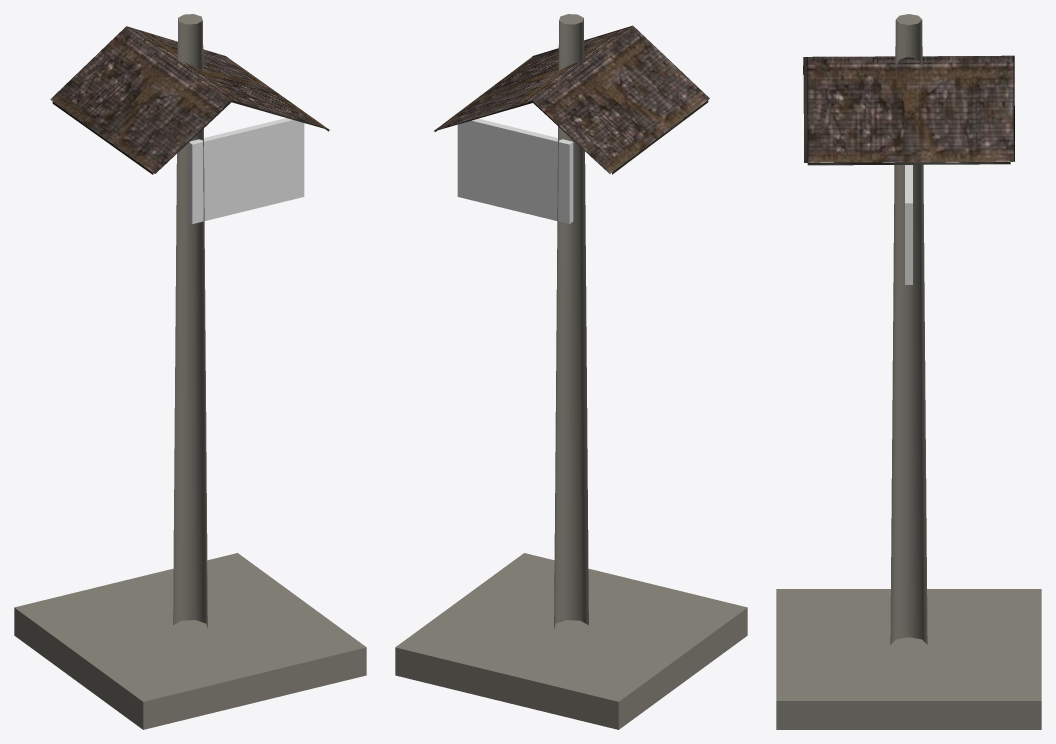
The picture shows the model from 3 angles, left to right: view 1: azimuth 30°, elevation 25°; view 2: azimuth 150°, elevation 25°; view 3: azimuth 270°, elevation 25°; orthographic projection. The views are drawn at different scales.
Visible parts, largest first — view 1: dweller_building_claim_post; view 2: dweller_building_claim_post; view 3: dweller_building_claim_post.
Boxes of the visible parts, x1,y1,x2,y2 form: dweller_building_claim_post: (14,14,366,729); dweller_building_claim_post: (395,14,747,729); dweller_building_claim_post: (776,14,1041,729).
Size of the model in its own units: 1 by 2.72 by 1.
3 materials, 1 textured.
